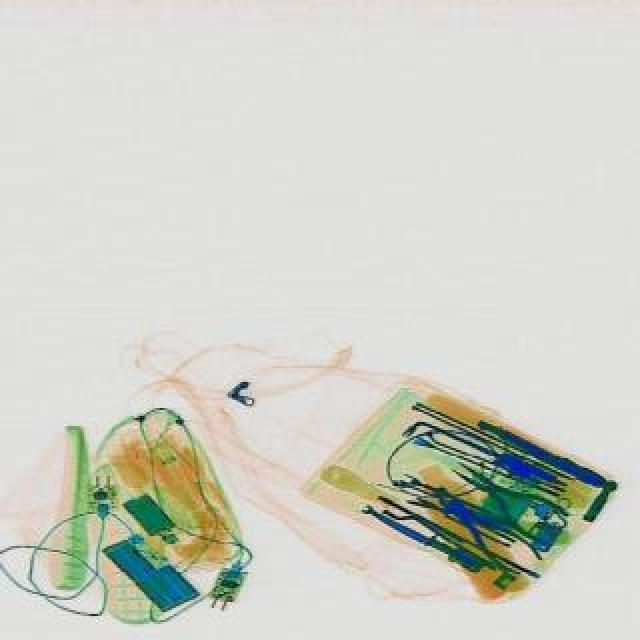wrench: (438, 446, 568, 548), (428, 486, 544, 584)
